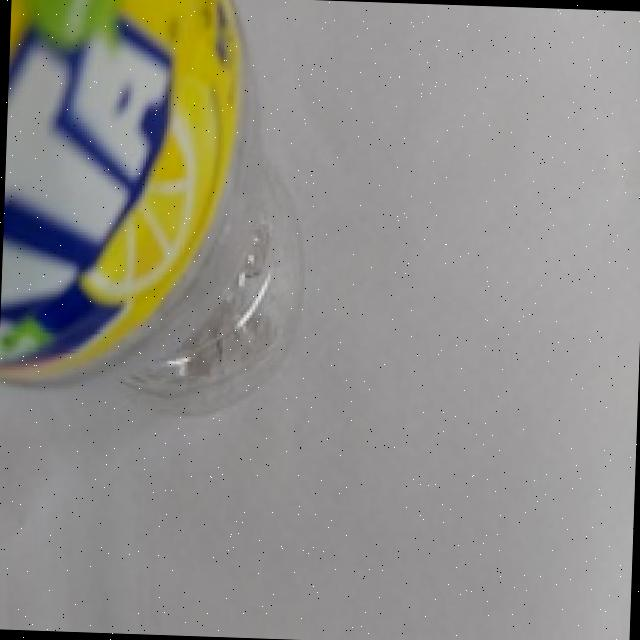bottle: (0, 0, 332, 432)
